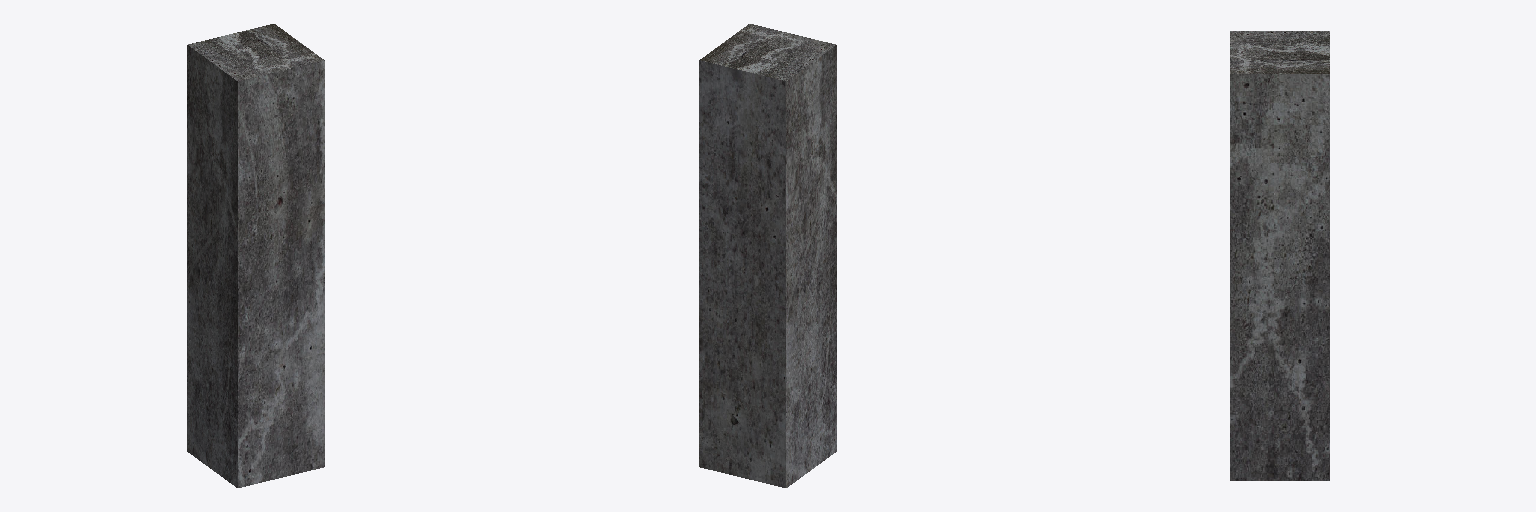
3 renders of one model, left to right at view 1: azimuth 30°, elevation 25°; view 2: azimuth 150°, elevation 25°; view 3: azimuth 270°, elevation 25°, orthographic.
Parts seen in each view (by area): view 1: pCube1; view 2: pCube1; view 3: pCube1.
Boxes of the visible parts, box(x1,y1,x2,y2) form: pCube1: box(187, 24, 324, 487); pCube1: box(699, 24, 836, 487); pCube1: box(1230, 31, 1329, 480).
Bounding box in the file's own units: 3 × 13.43 × 3.
1 materials, 1 textured.